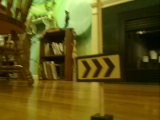right: (76, 55, 123, 80)
